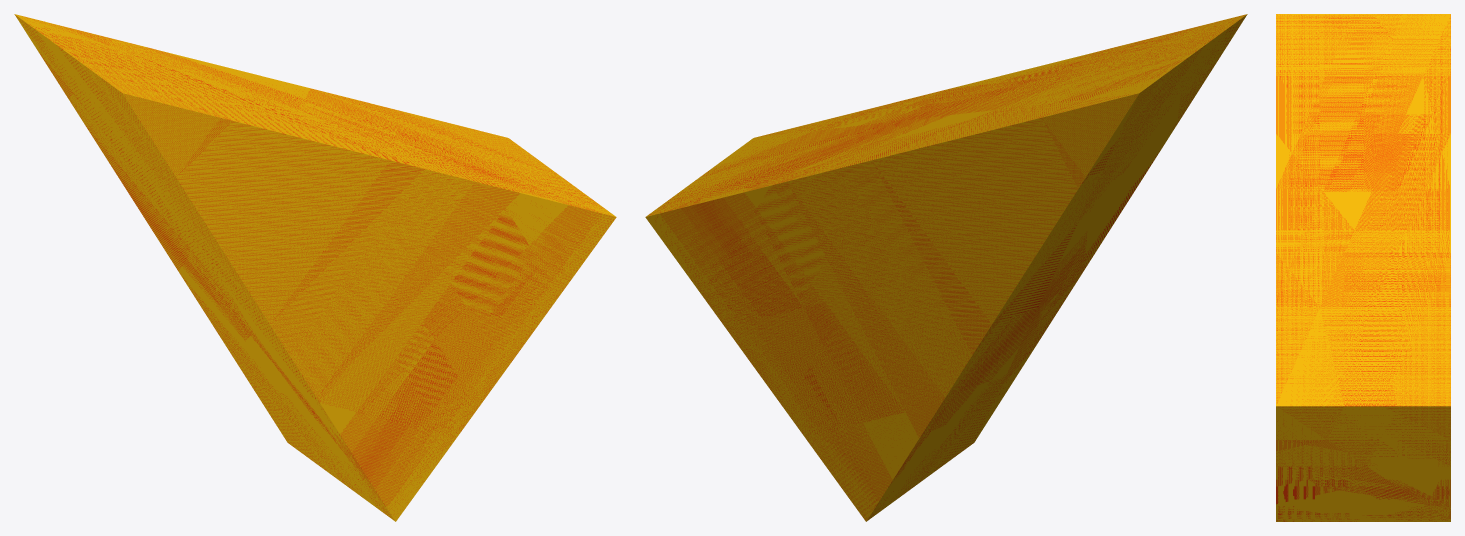
File: cake_yellow.dae
3 views of the same model, side by side, from view 1: azimuth 30°, elevation 25°; view 2: azimuth 150°, elevation 25°; view 3: azimuth 270°, elevation 25° (orthographic). The views are drawn at different scales.
Visible parts, largest first — view 1: SketchUp; view 2: SketchUp; view 3: SketchUp.
Part boxes in pixels (x1,y1,x2,y2): SketchUp: (14, 14, 616, 521); SketchUp: (645, 14, 1247, 521); SketchUp: (1276, 14, 1450, 521).
Bounding box in the file's own units: 128 × 48.43 × 122.
